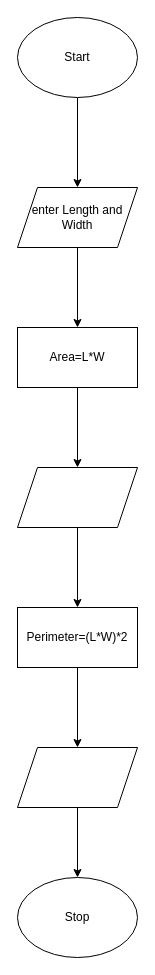
Image size: 155x975. Some labels were removed from this diagram. The box of each missing label's shape, as (x1, y1, x2, y2) in pixels:
Area: (16, 466, 138, 528)
Perimeter: (16, 746, 138, 808)
